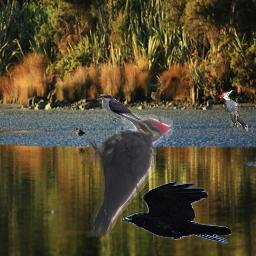Crow: (121, 182, 232, 244)
Cuckoo: (97, 94, 159, 131)
Woodpecker: (85, 113, 173, 237), (220, 90, 248, 131)
